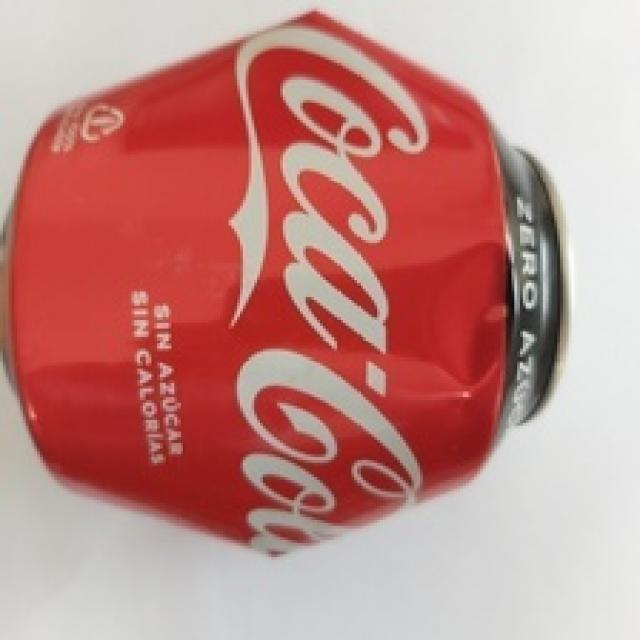recyclable: (0, 7, 572, 559)
